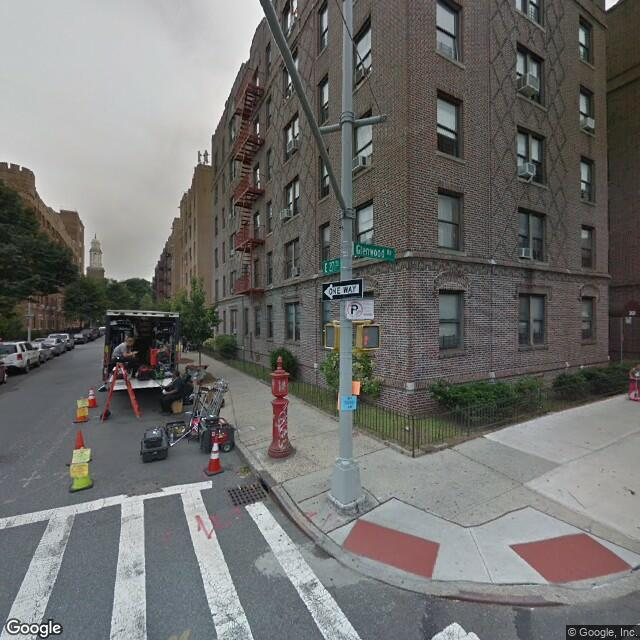litter: (402, 425, 408, 429)
